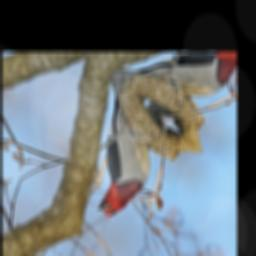Woodpecker: (47, 82, 185, 232)
